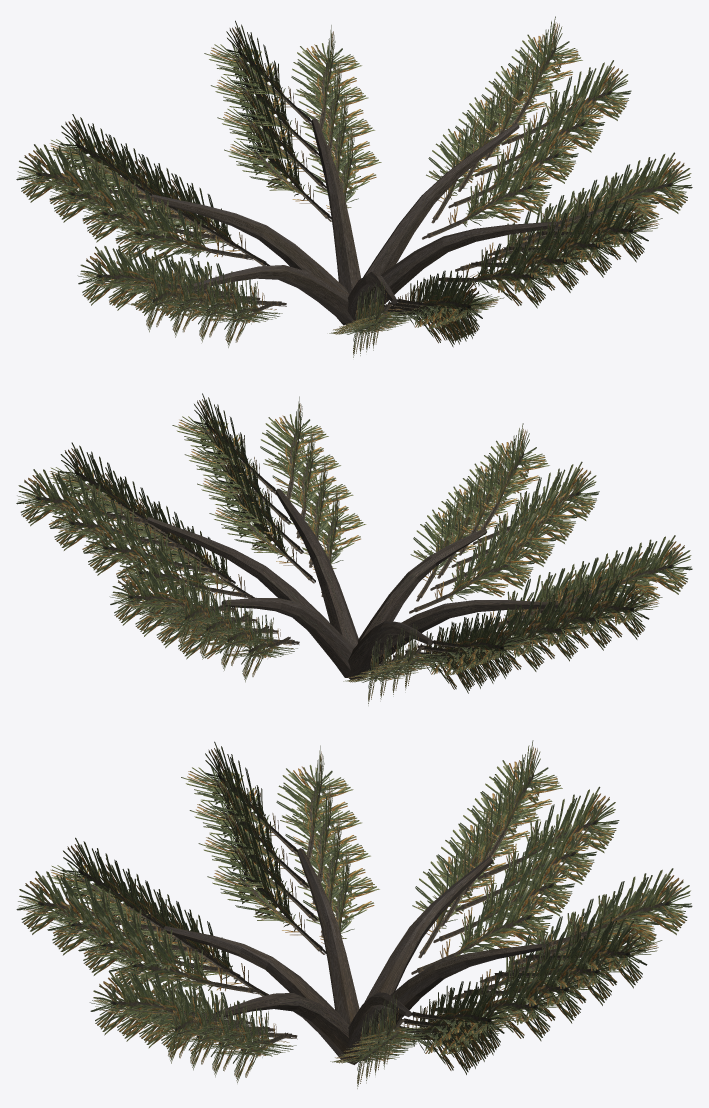
File: shrub.glb
3 renders of one model, top to bottom at view 1: azimuth 30°, elevation 25°; view 2: azimuth 150°, elevation 25°; view 3: azimuth 270°, elevation 25°, orthographic. The views are drawn at different scales.
Parts seen in each view (by area): view 1: shrub_EvergreenFans, shrub_WoodyStems; view 2: shrub_EvergreenFans, shrub_WoodyStems; view 3: shrub_EvergreenFans, shrub_WoodyStems.
Boxes of the visible parts, left/top/right/bottom form: shrub_EvergreenFans: left=16, top=16, right=692, bottom=357; shrub_WoodyStems: left=151, top=118, right=558, bottom=325; shrub_EvergreenFans: left=16, top=393, right=692, bottom=705; shrub_WoodyStems: left=147, top=489, right=561, bottom=679; shrub_EvergreenFans: left=16, top=740, right=692, bottom=1088; shrub_WoodyStems: left=163, top=848, right=545, bottom=1064.
Bounding box in the file's own units: 2.1 × 0.68 × 1.94.
Materials: 2 (2 with a texture image).
